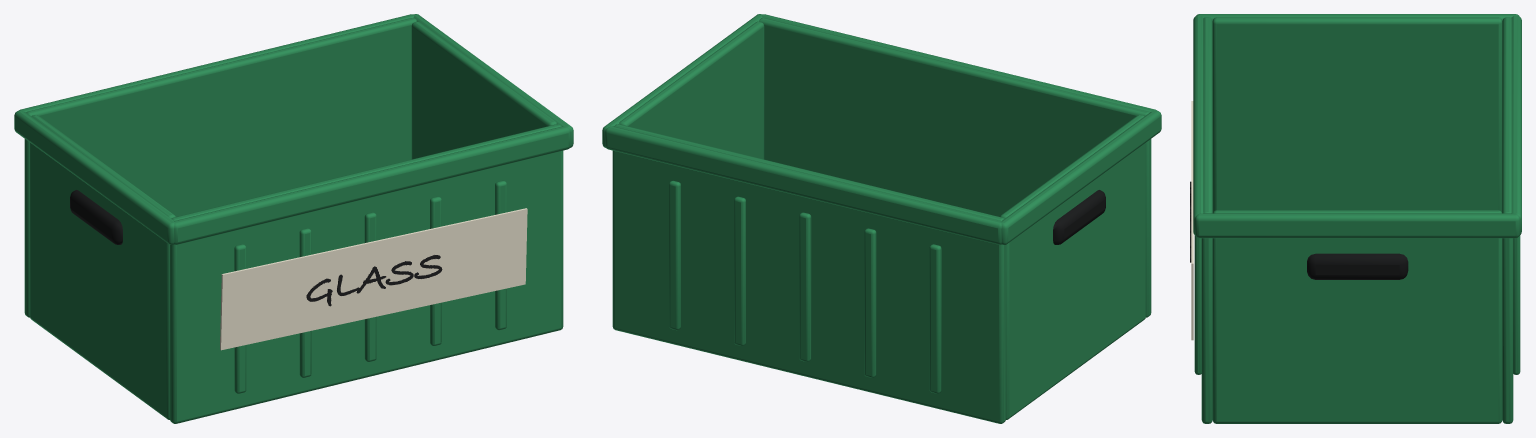
Rendered from crate_glass.fbx.
3 renders of one model, left to right at view 1: azimuth 30°, elevation 25°; view 2: azimuth 150°, elevation 25°; view 3: azimuth 270°, elevation 25°, orthographic. The views are drawn at different scales.
Visible parts, largest first — view 1: crate_glass; view 2: crate_glass; view 3: crate_glass.
Part boxes in pixels (x1=…): crate_glass: x1=14, y1=14, x2=573, y2=423; crate_glass: x1=602, y1=14, x2=1161, y2=423; crate_glass: x1=1190, y1=14, x2=1521, y2=423.
Size of the model in its own units: 0.622 by 0.3 by 0.426.
